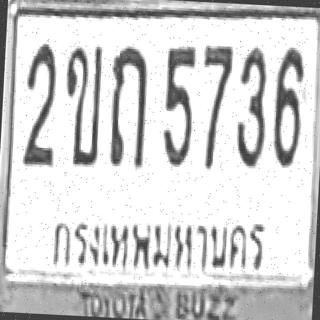A02: (60, 43, 104, 165)
A22: (106, 43, 150, 168)
N02: (21, 40, 60, 166)
N03: (234, 45, 269, 169)
N05: (160, 45, 197, 166)
N06: (271, 44, 306, 168)
N07: (197, 44, 234, 168)
P04: (40, 204, 277, 292)
